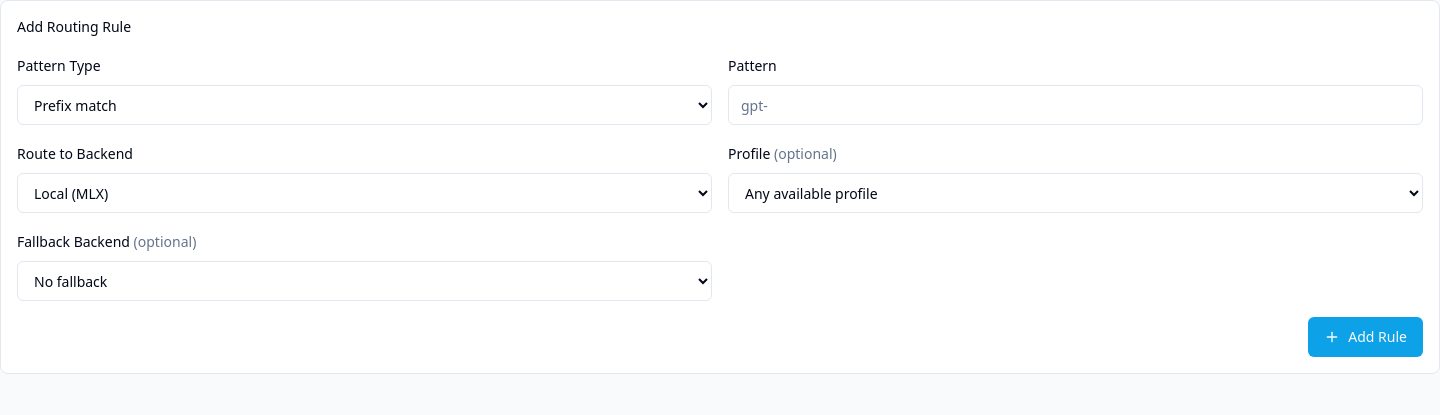
Test case: RuleForm › backend selection › shows warning when selecting unconfigured provider
Select "Anthropic" in the dropdown labelled "Route to Backend": (364, 193) [17, 173, 712, 213]
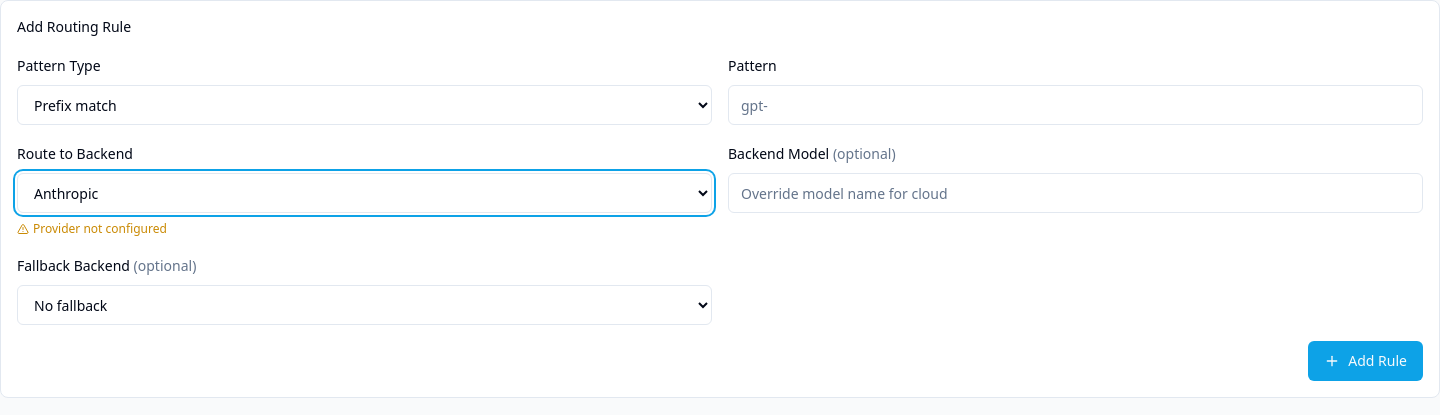
Check: the text "Provider not configured" is shown, box [17, 220, 167, 237]
